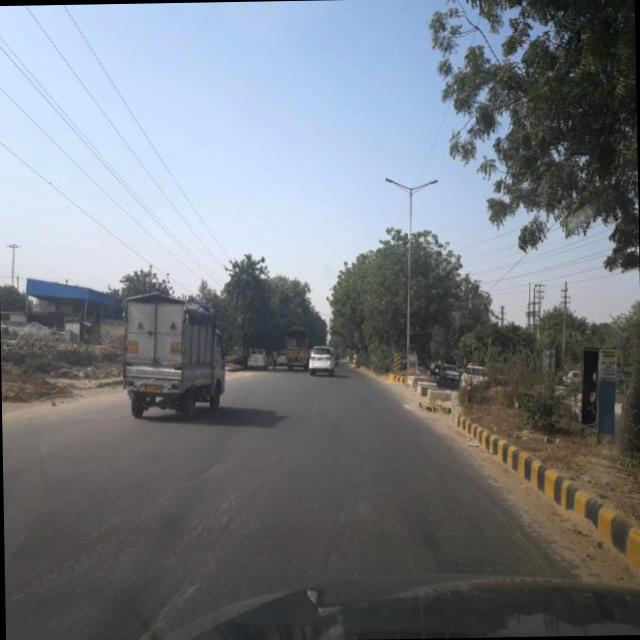pothole: (136, 507, 244, 632)
